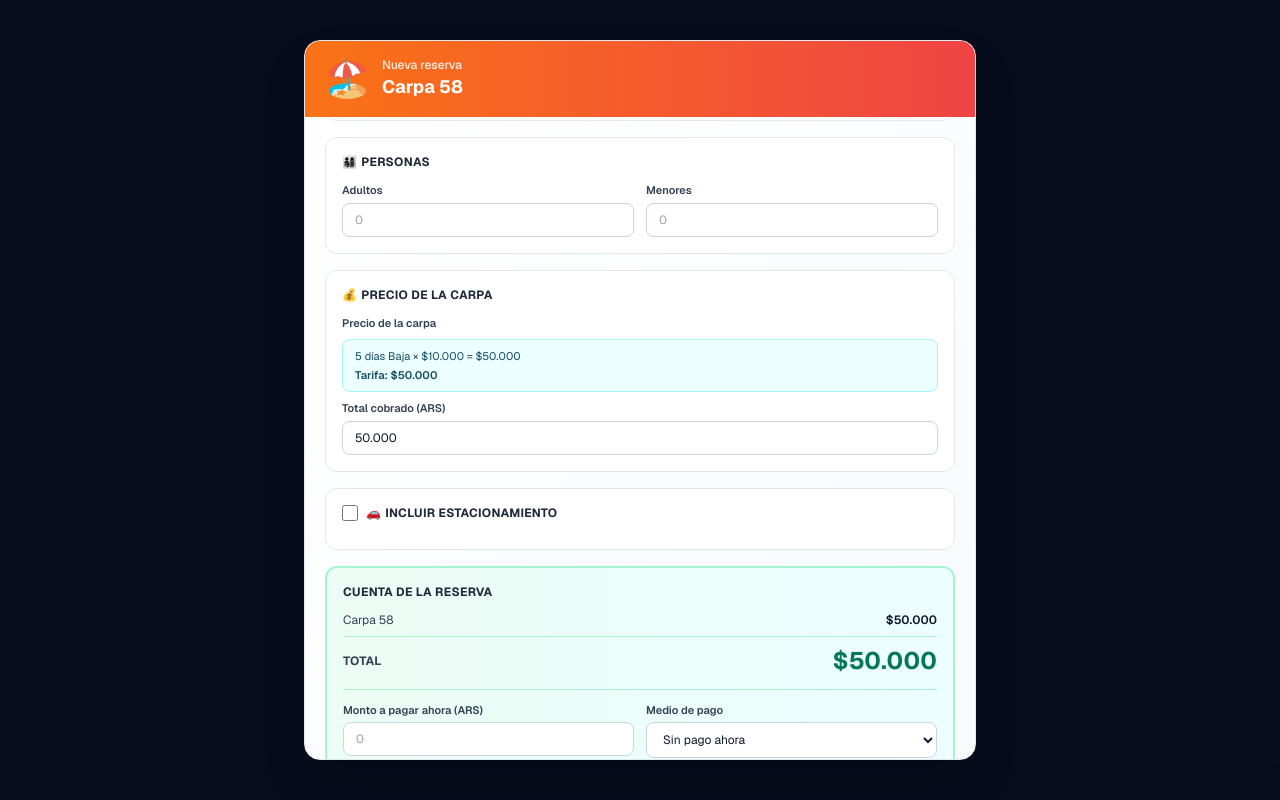
Test case: precio en el alta de carpa › un ajuste sin motivo no deja guardar
The width and height of the screenshot is (1280, 800).
(page scrolled)
Replace the text in the field showing "50.000" with "45000": [640, 438] box [342,420,938,454]
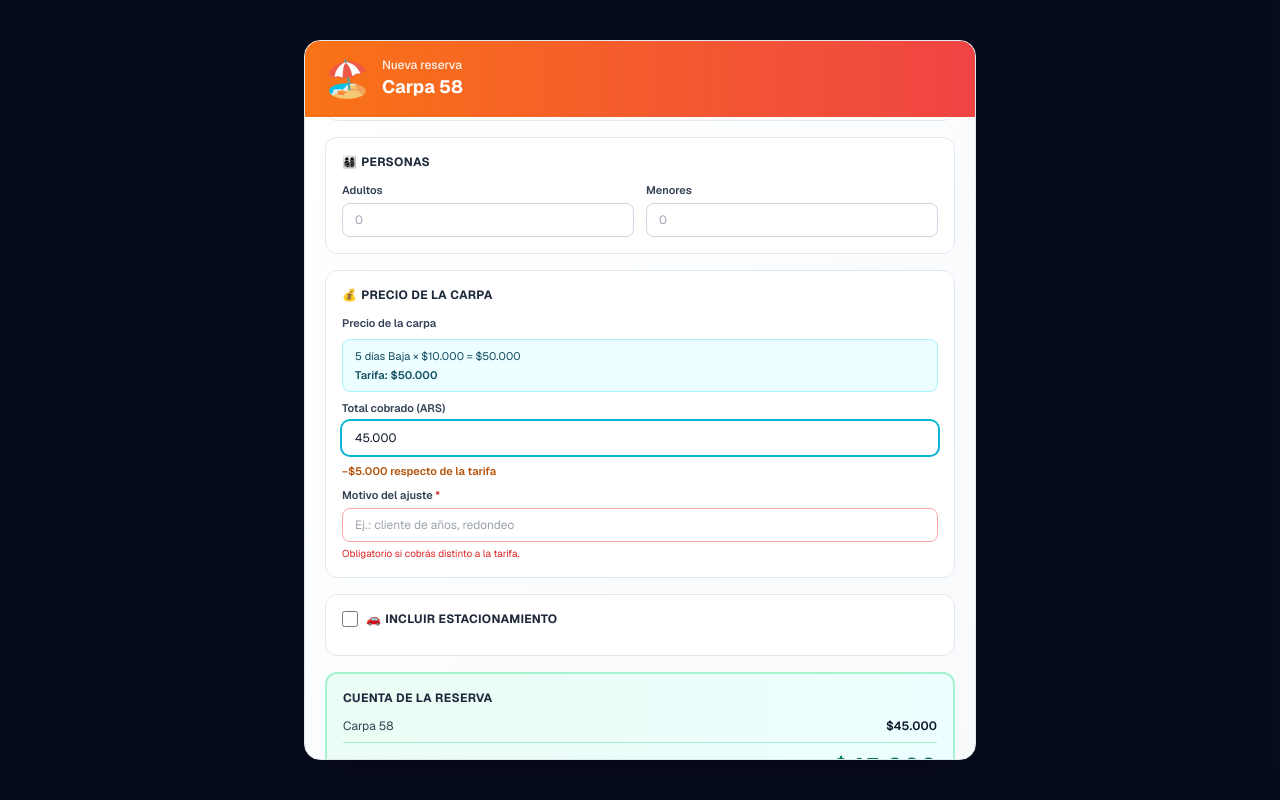
In the field labelled "Motivo del ajuste": [640, 524] box [342,508,938,542], type "amigo"
(page scrolled)
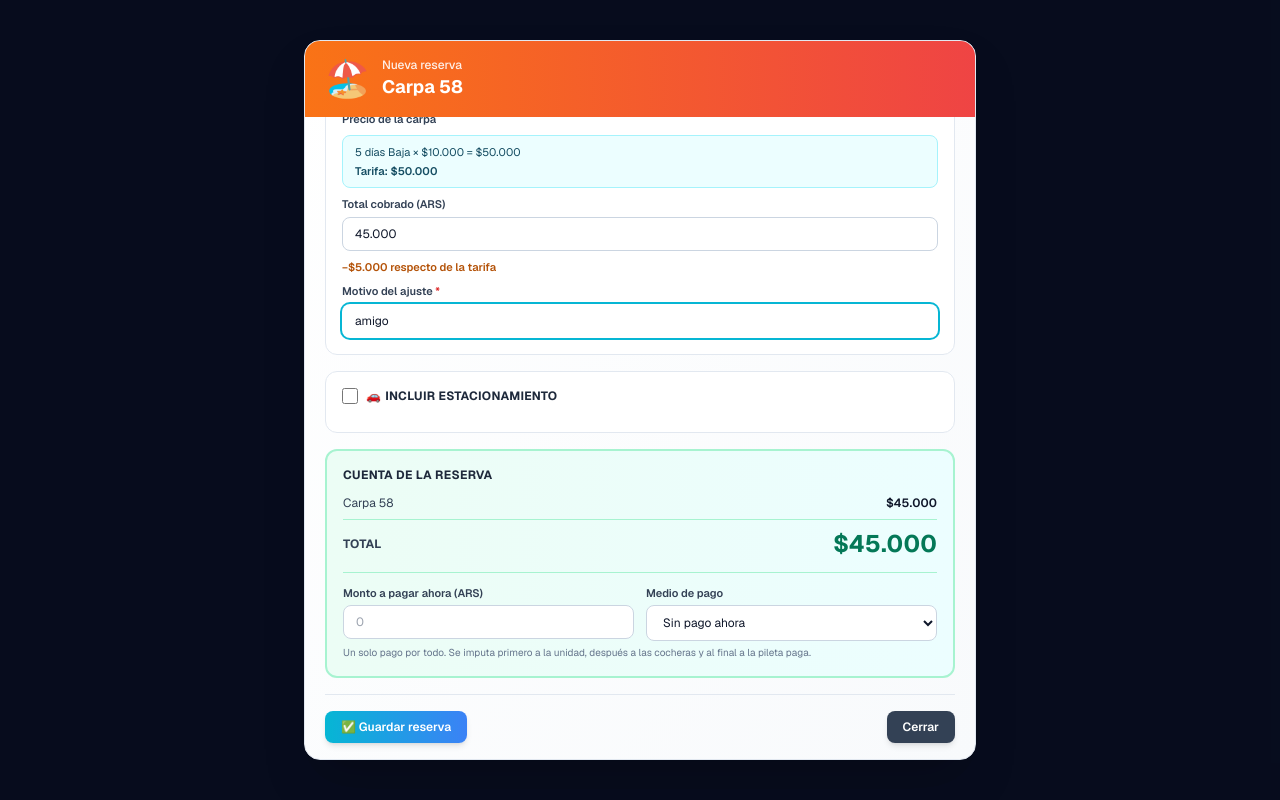
Expected: the button "✅ Guardar reserva" is enabled, [325,711,467,743]
